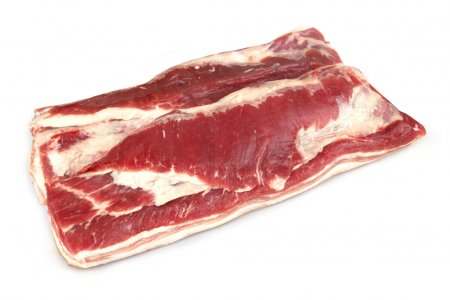bacon: (21, 67, 414, 233)
